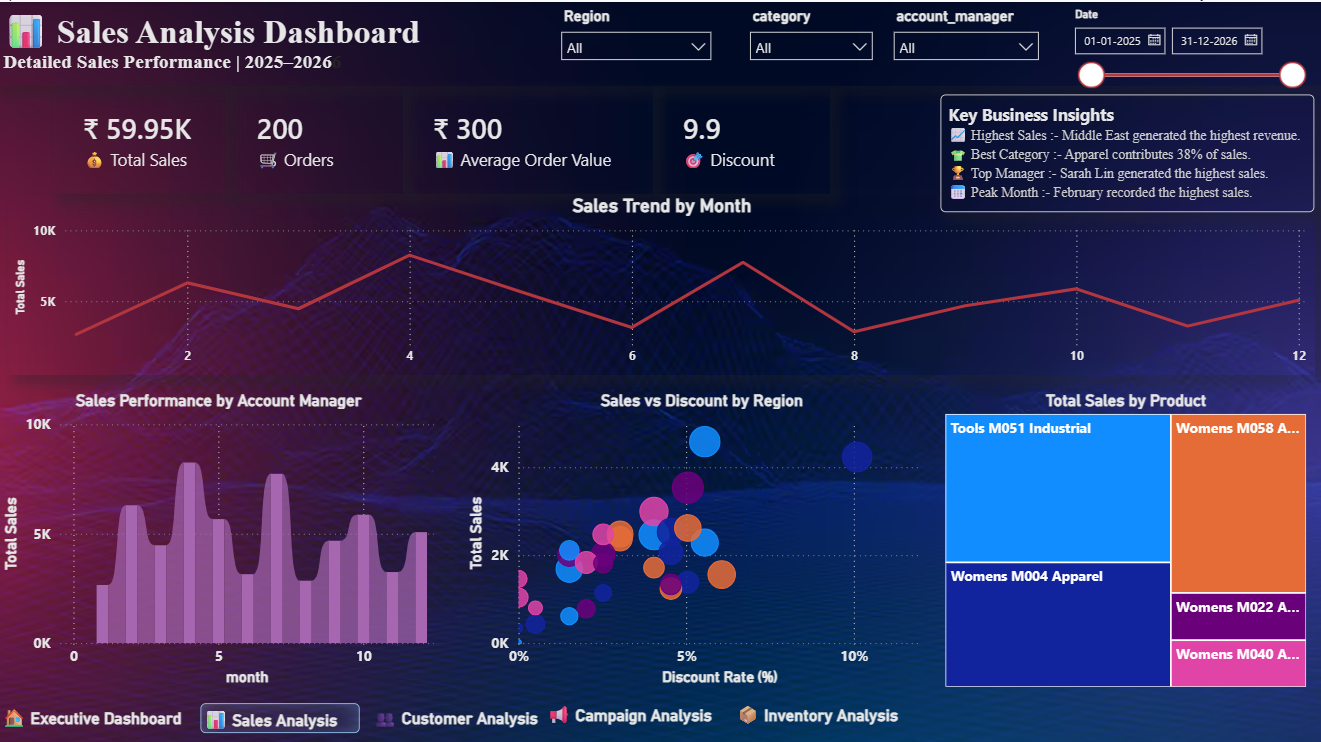

What the dashboard file says about the page in this screenshot:
{"tool":"powerbi","page":{"name":"Sales Analysis","canvas":[1280,720],"ordinal":1},"visuals":[{"type":"textbox","box":[0,0,1280,80.8],"z":0},{"type":"cardVisual","fields":{"Data":["_measures.Total Sales"]},"box":[53.5,81,167.4,104.3],"z":1000},{"type":"treemap","title":"Total Sales by Product ","fields":{"Group":["dim_product.product_name","dim_product.category"],"Values":["_measures.Total Sales"]},"box":[909.8,374.6,358.1,290.9],"z":2000},{"type":"ribbonChart","title":"Sales Performance by Account Manager","fields":{"Category":["dim_date.month"],"Y":["_measures.Total Sales"]},"box":[0,375.2,425.9,289.5],"z":3000},{"type":"slicer","fields":{"Values":["dim_date.Date"]},"box":[1026.7,0,243.7,89.3],"z":4000},{"type":"slicer","fields":{"Values":["dim_geo.region"]},"box":[533.2,0,165.3,62.7],"z":5000},{"type":"slicer","fields":{"Values":["dim_product.category"]},"box":[715.4,0,138.7,62.7],"z":6000},{"type":"slicer","fields":{"Values":["dim_customer.account_manager"]},"box":[854.2,0,160.5,62.7],"z":7000},{"type":"cardVisual","fields":{"Data":["_measures.Total Orders"]},"box":[220.9,81,170.2,104.3],"z":8000},{"type":"cardVisual","fields":{"Data":["_measures.Average Order Value"]},"box":[391.1,81,241.5,104.3],"z":9000},{"type":"cardVisual","fields":{"Data":["_measures.Total Discount"]},"box":[632.6,81,170.2,104.3],"z":10000},{"type":"scatterChart","title":"Sales vs Discount by Region","fields":{"X":["Sum(fact_sales.discount)"],"Y":["_measures.Total Sales"],"Category":["dim_product.category"],"Series":["dim_geo.region"],"Size":["Sum(fact_sales.quantity)"]},"box":[448.7,374.6,461.1,289.5],"z":11000},{"type":"textbox","box":[909.8,89.2,360.9,113.9],"z":12000},{"type":"actionButton","title":"📊 Sales Analysis","box":[194.9,676.5,153.7,28.8],"z":13000},{"type":"actionButton","title":"👥 Customer Analysis","box":[362.3,677.9,171.5,28.8],"z":14000},{"type":"actionButton","title":"📢 Campaign Analysis","box":[529.7,675.1,172.9,30.2],"z":15000},{"type":"actionButton","title":"📦 Inventory Analysis","box":[712.2,675.1,179.8,28.8],"z":16000},{"type":"actionButton","title":"🏠 Executive Dashboard","box":[4.1,677.9,190.7,28.8],"z":17000},{"type":"lineChart","title":"Sales Trend by Month","fields":{"Y":["_measures.Total Sales"],"Category":["dim_date.month"]},"box":[11,185.2,1259.7,174.3],"z":18000},{"type":"actionButton","box":[0,83.3,43.8,38.1],"z":19000}]}

Visuals, with their boxes in screenshot pixels (x1, y1, x2, y2), scaled from the page's 1280x720 canvas onto the 1321x742 screenshot:
textbox: 0,0,1320,83
cardVisual - _measures.Total Sales: 55,83,228,191
"Total Sales by Product " treemap: 939,386,1309,686
"Sales Performance by Account Manager" ribbonChart: 0,387,440,685
slicer - dim_date.Date: 1060,0,1311,92
slicer - dim_geo.region: 550,0,721,65
slicer - dim_product.category: 738,0,881,65
slicer - dim_customer.account_manager: 882,0,1047,65
cardVisual - _measures.Total Orders: 228,83,404,191
cardVisual - _measures.Average Order Value: 404,83,653,191
cardVisual - _measures.Total Discount: 653,83,829,191
"Sales vs Discount by Region" scatterChart: 463,386,939,684
textbox: 939,92,1311,209
"📊 Sales Analysis" actionButton: 201,697,360,727
"👥 Customer Analysis" actionButton: 374,699,551,728
"📢 Campaign Analysis" actionButton: 547,696,725,727
"📦 Inventory Analysis" actionButton: 735,696,921,725
"🏠 Executive Dashboard" actionButton: 4,699,201,728
"Sales Trend by Month" lineChart: 11,191,1311,370
actionButton: 0,86,45,125
